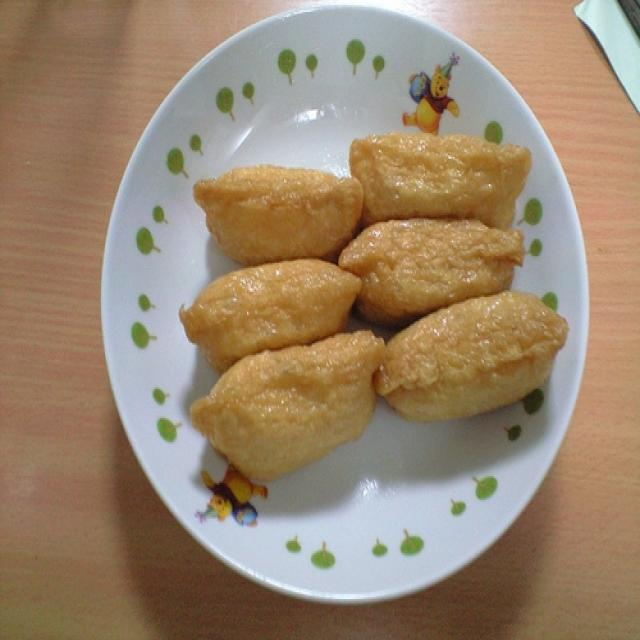寿司卷物: (133, 24, 603, 560)
